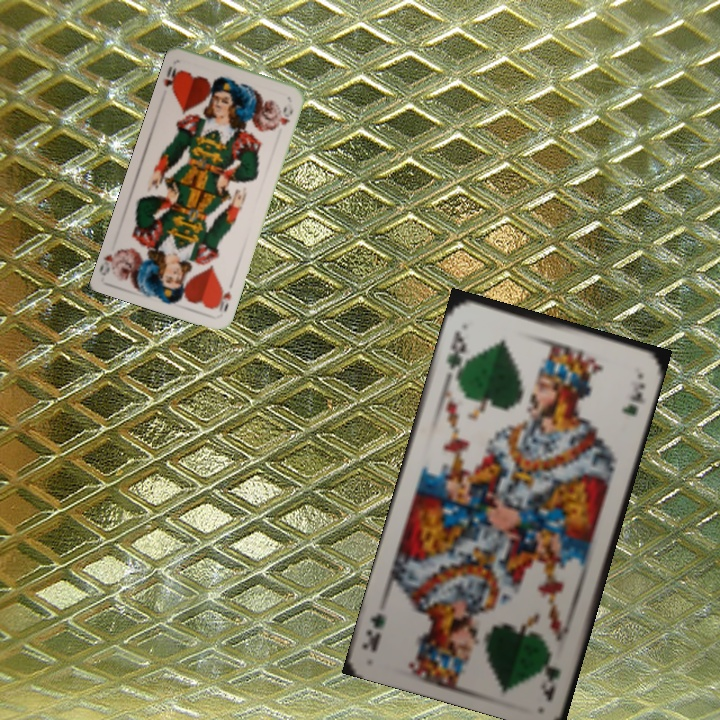GK: (537, 648, 563, 705), (443, 326, 469, 377)
HO: (159, 62, 184, 96), (212, 282, 234, 315)
